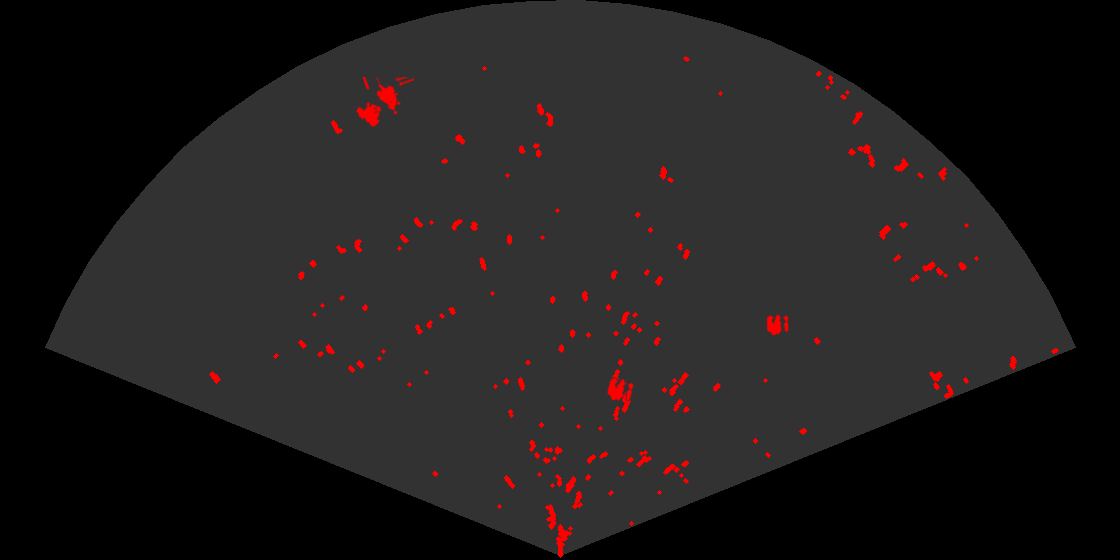ball: (606, 376, 635, 402), (765, 313, 790, 337)
cage: (354, 77, 414, 129)
